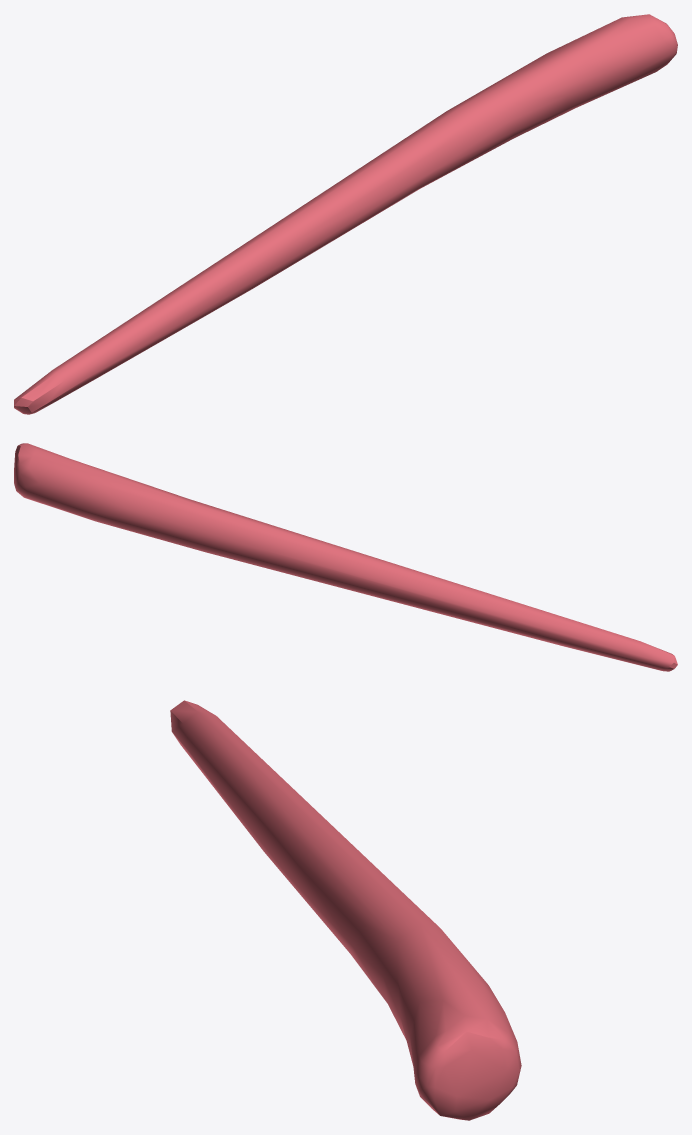
File: fma8673_fj6129.glb
3 views of the same model, one above another, from view 1: azimuth 30°, elevation 25°; view 2: azimuth 150°, elevation 25°; view 3: azimuth 270°, elevation 25° (orthographic). The views are drawn at different scales.
Visible parts, largest first — view 1: FMA8673_FJ6129; view 2: FMA8673_FJ6129; view 3: FMA8673_FJ6129.
Boxes of the visible parts, left/top/right/bottom form: FMA8673_FJ6129: left=14, top=14, right=677, bottom=414; FMA8673_FJ6129: left=14, top=443, right=677, bottom=671; FMA8673_FJ6129: left=170, top=700, right=521, bottom=1120.
Size of the model in its own units: 0.057 by 0.0122 by 0.0144.
